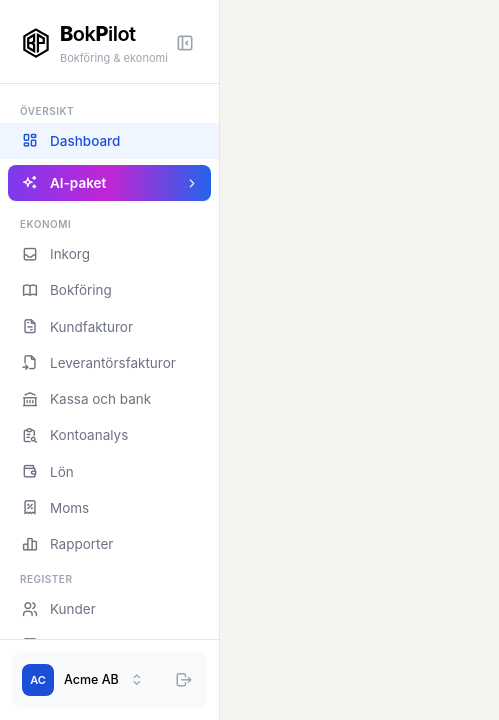
Sidebar – tillgänglighet (aria/tangentbord/aktiv markering) › gruppknapp: native button med aria-expanded som växlar + aria-controls
Click the button "AI-paket".
click(110, 183)  # box [8,165,211,201]
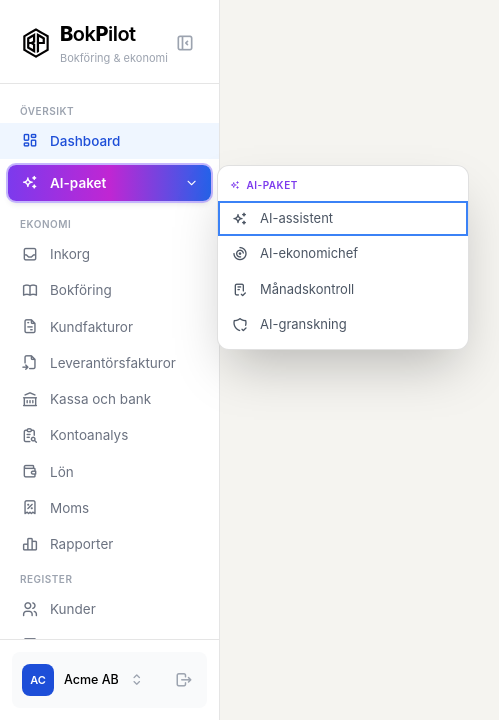
Result: the button "AI-paket" is expanded at [8,165,211,201]
